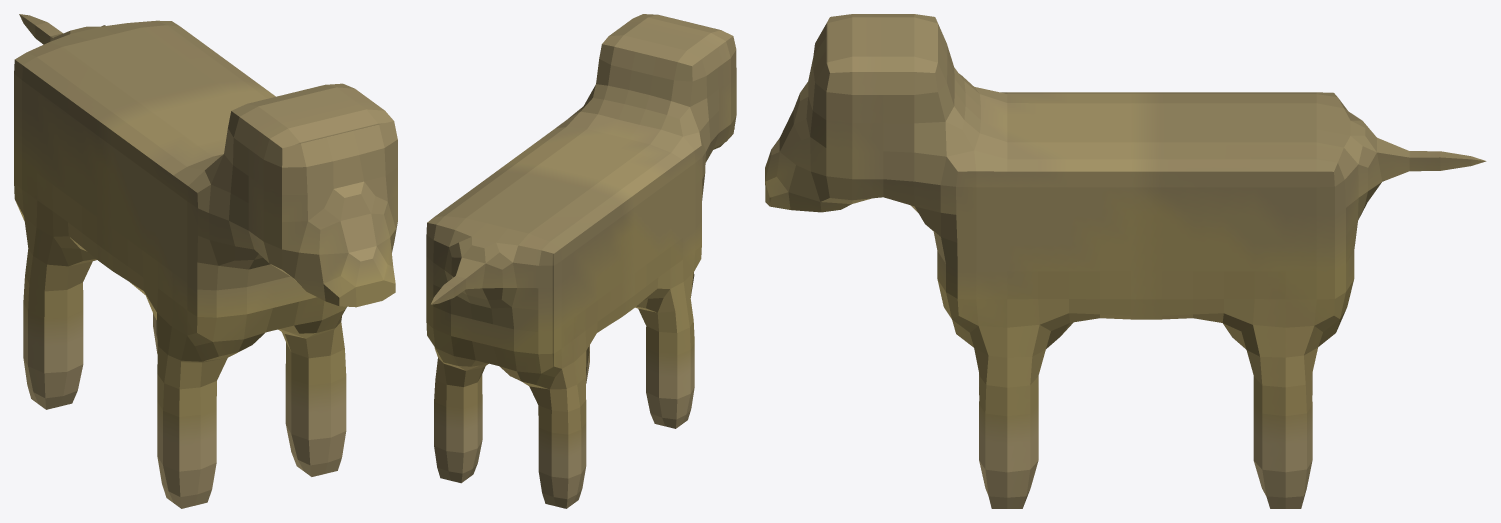
Rendered from whiteTiger.glb.
3 views of the same model, side by side, from view 1: azimuth 30°, elevation 25°; view 2: azimuth 150°, elevation 25°; view 3: azimuth 270°, elevation 25° (orthographic). The views are drawn at different scales.
Visible parts, largest first — view 1: geometry_0; view 2: geometry_0; view 3: geometry_0.
Boxes of the visible parts, bbox=[...] form: geometry_0: bbox=[14, 14, 397, 508]; geometry_0: bbox=[426, 14, 736, 508]; geometry_0: bbox=[765, 14, 1486, 508].
Size of the model in its own units: 0.4437 by 1 by 1.51.
Materials: 1 (1 with a texture image).
